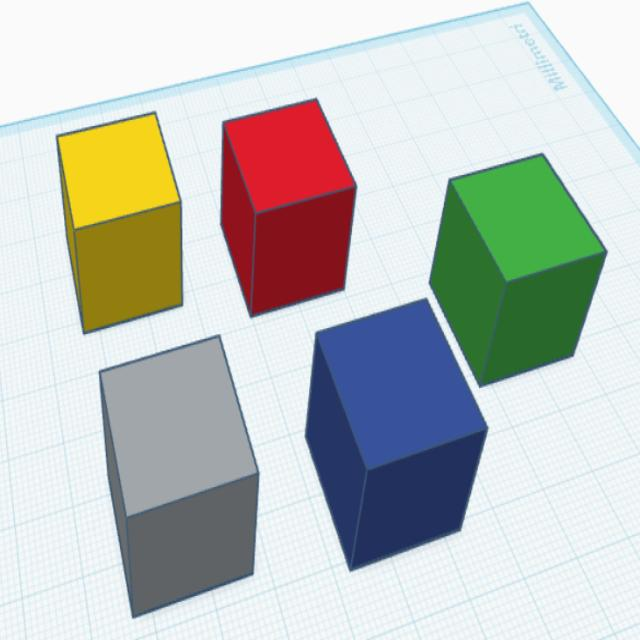cube: (302, 295, 491, 576), (96, 331, 262, 623), (427, 150, 610, 391), (218, 94, 360, 321), (52, 108, 186, 339)
